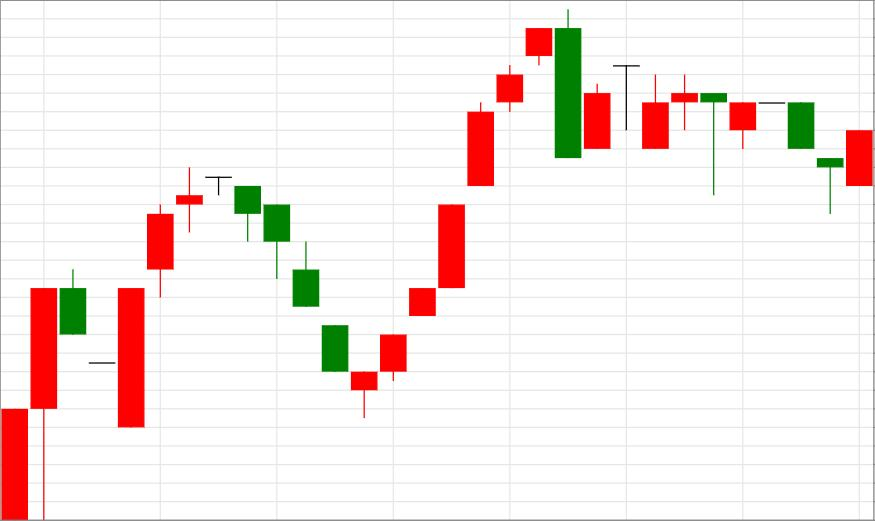bearish_engulfing_fall: (351, 9, 582, 417)
